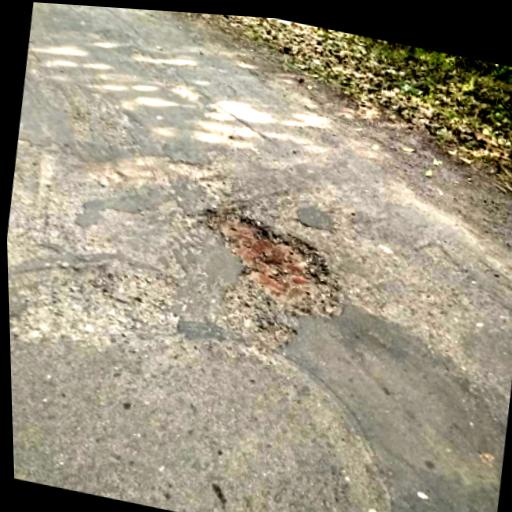pothole: (186, 200, 348, 325)
